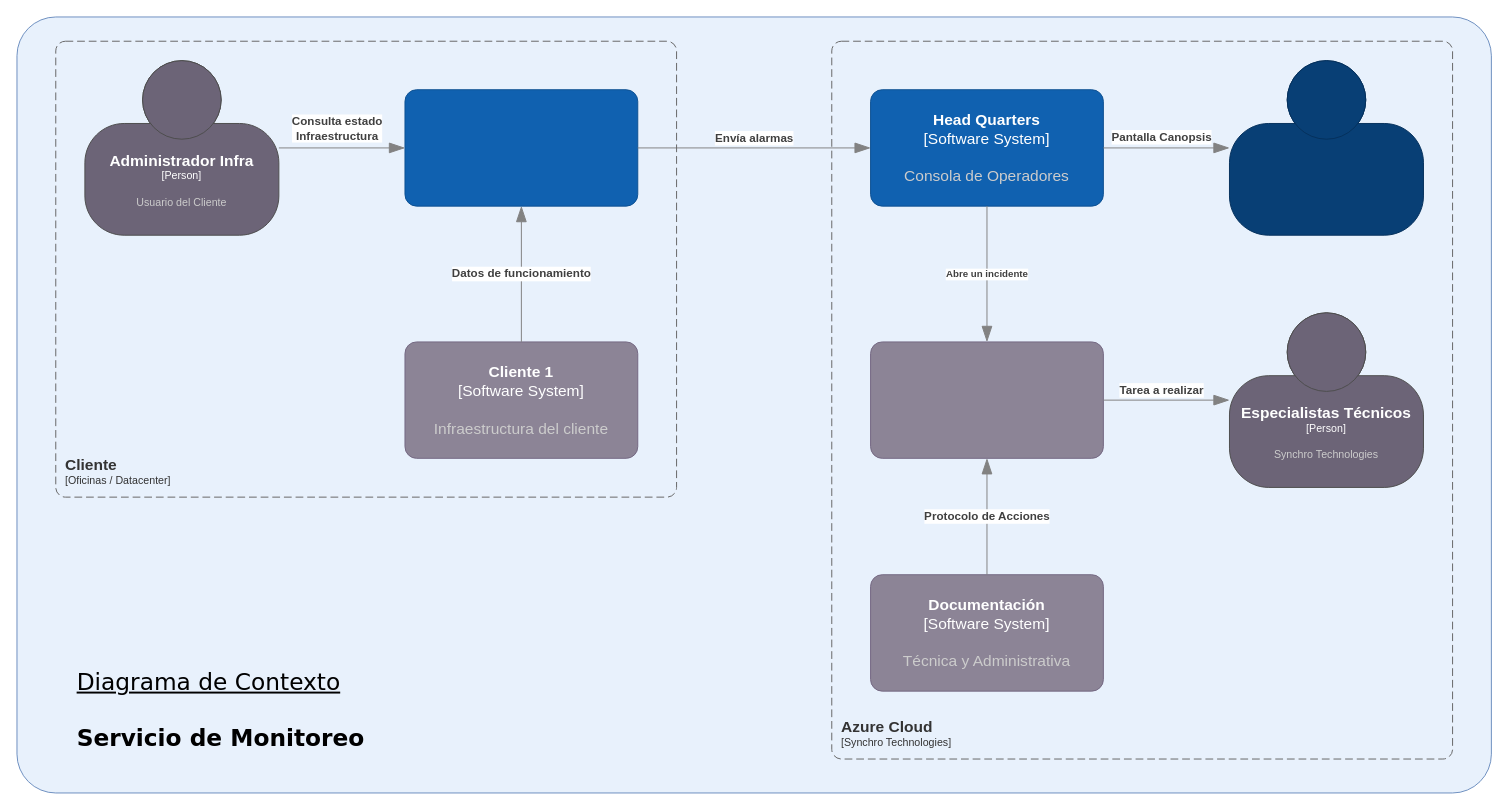
Image size: 1508x810. Some labels were removed from this diagram. Each missing label, with the centre of its shape:
"Operaciones [Software System] Sistema de Tickets" goes at (x=986, y=399).
"Operadores [Person] Synchro Technologies" goes at (x=1326, y=147).
"Sensor de Monitoreo [Software System] VMs en red del cliente" goes at (x=521, y=147).
